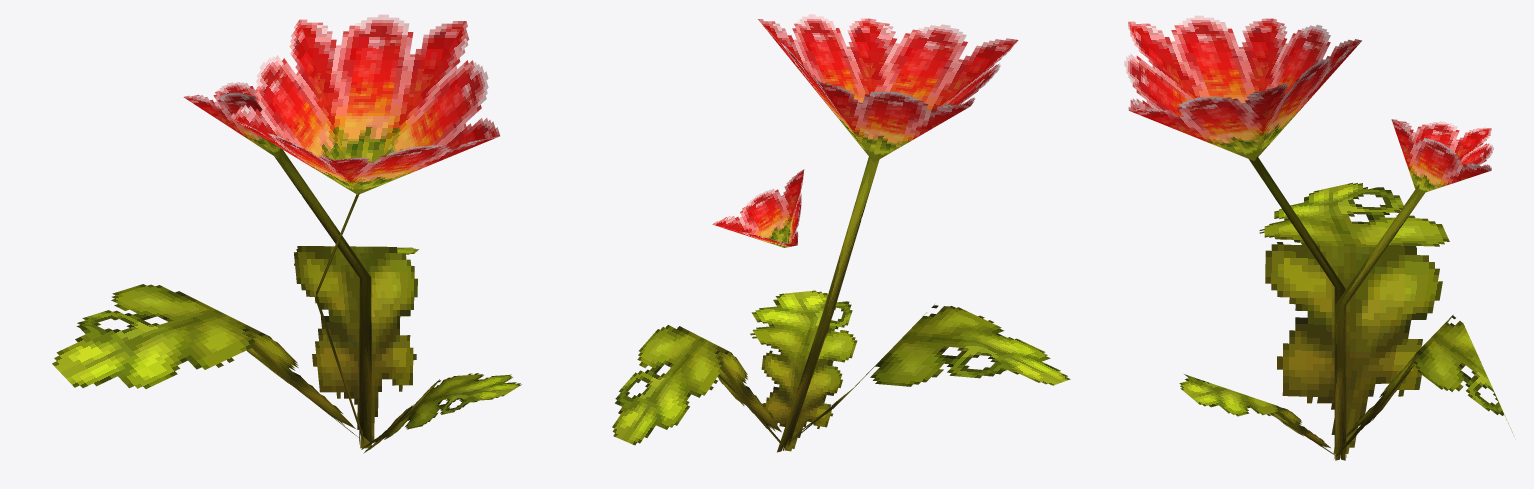
Rendered from elwynnflower01.obj.
3 renders of one model, left to right at view 1: azimuth 30°, elevation 25°; view 2: azimuth 150°, elevation 25°; view 3: azimuth 270°, elevation 25°, orthographic. The views are drawn at different scales.
Visible parts, largest first — view 1: Geoset0, Geoset1; view 2: Geoset0, Geoset1; view 3: Geoset0, Geoset1.
Part boxes in pixels (x1,y1,x2,y2): Geoset0: [52, 148, 521, 453]; Geoset1: [183, 14, 499, 194]; Geoset0: [612, 156, 1070, 452]; Geoset1: [712, 14, 1018, 247]; Geoset0: [1179, 156, 1514, 460]; Geoset1: [1124, 15, 1493, 194].
Size of the model in its own units: 0.9239 by 0.8984 by 0.7886.
Materials: 2 (2 with a texture image).
